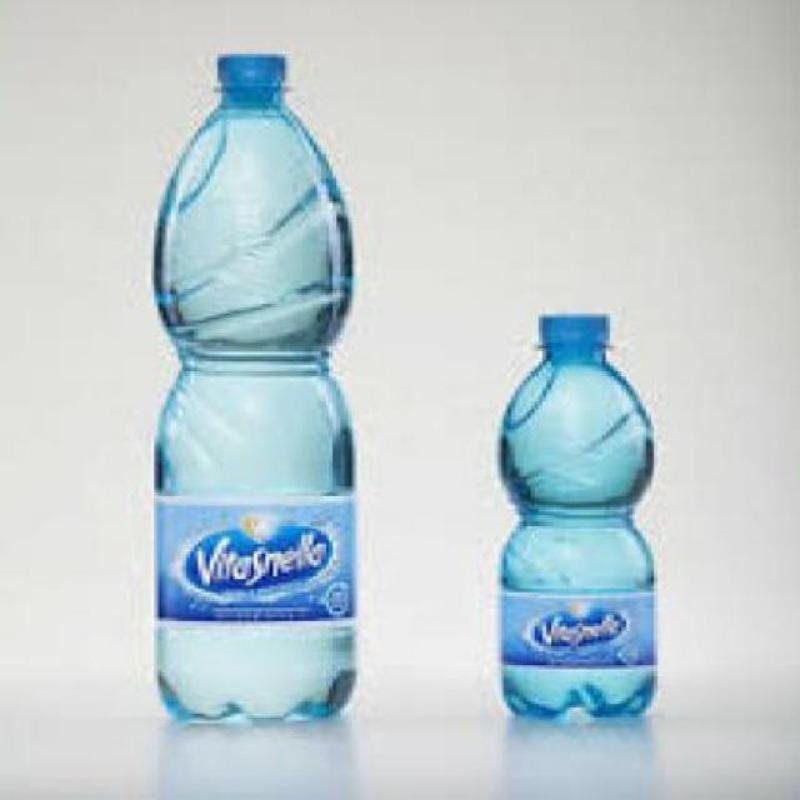botella: (151, 55, 359, 724), (495, 315, 657, 723)
